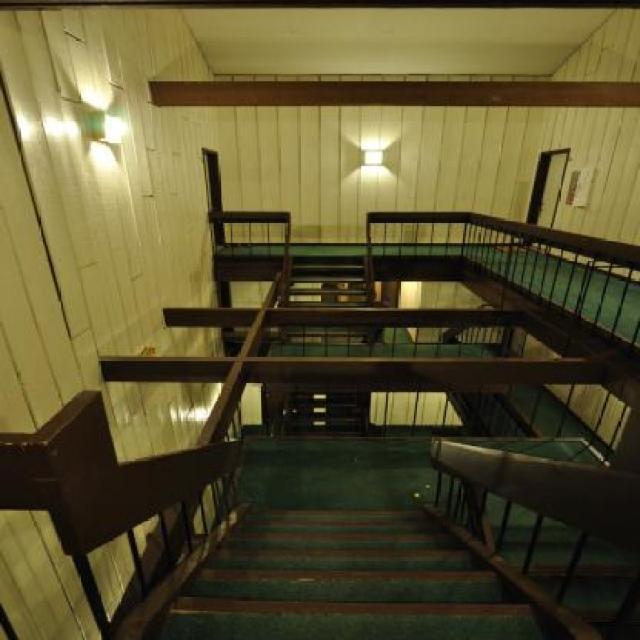stair: (140, 511, 576, 640), (277, 256, 380, 310)
